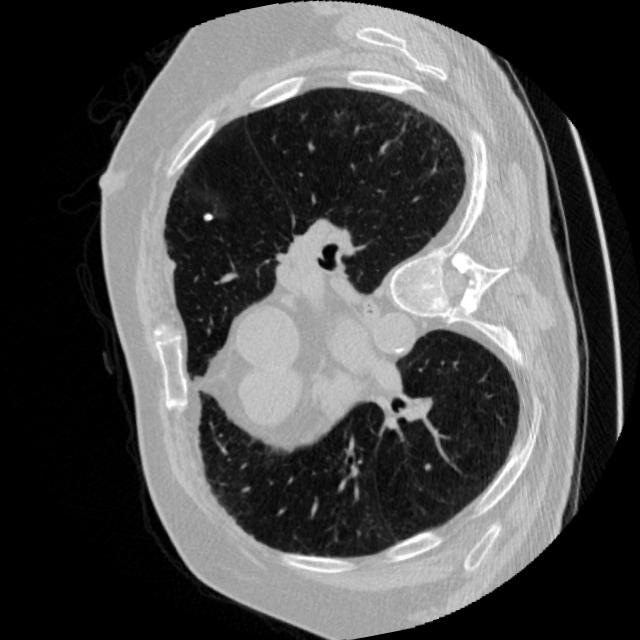nodule: (194, 202, 220, 228)
